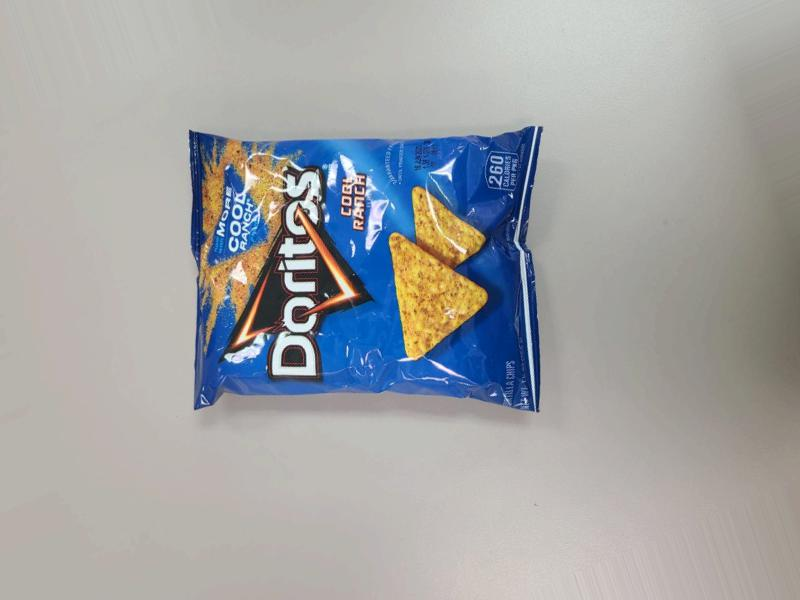doritos: (196, 97, 554, 436)
